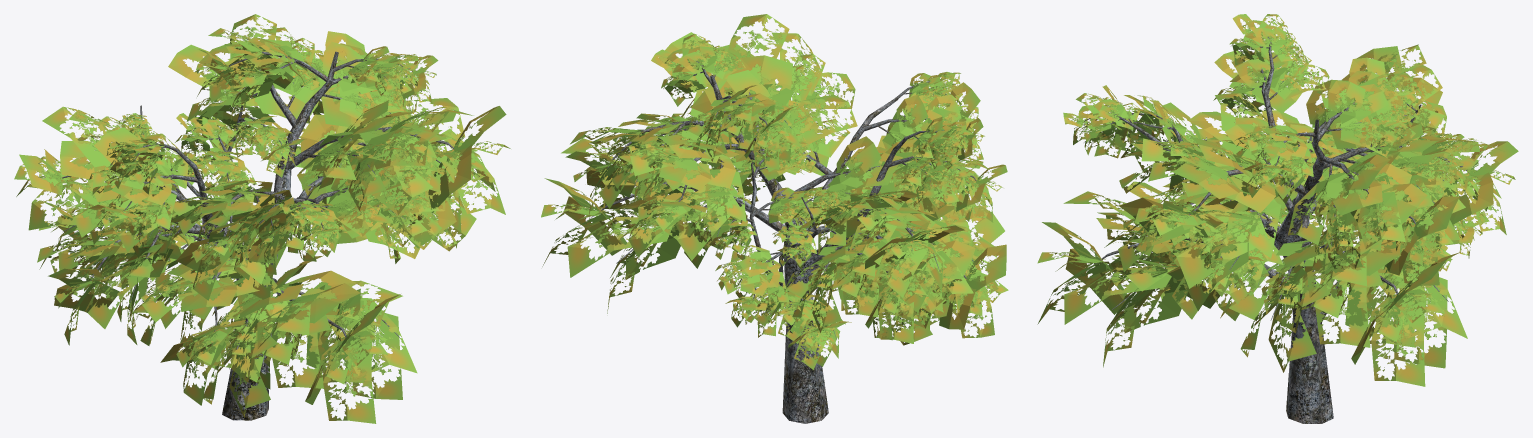
The model's file is tree1.dae.
The picture shows the model from 3 angles, left to right: view 1: azimuth 30°, elevation 25°; view 2: azimuth 150°, elevation 25°; view 3: azimuth 270°, elevation 25°; orthographic projection. The views are drawn at different scales.
Visible parts, largest first — view 1: tree_oak_joined; view 2: tree_oak_joined; view 3: tree_oak_joined.
Part boxes in pixels (x1,y1,x2,y2): tree_oak_joined: (14,14,510,423); tree_oak_joined: (541,14,1008,423); tree_oak_joined: (1037,14,1518,423).
Bounding box in the file's own units: 5.7 × 5.36 × 4.35.
2 materials, 2 textured.
